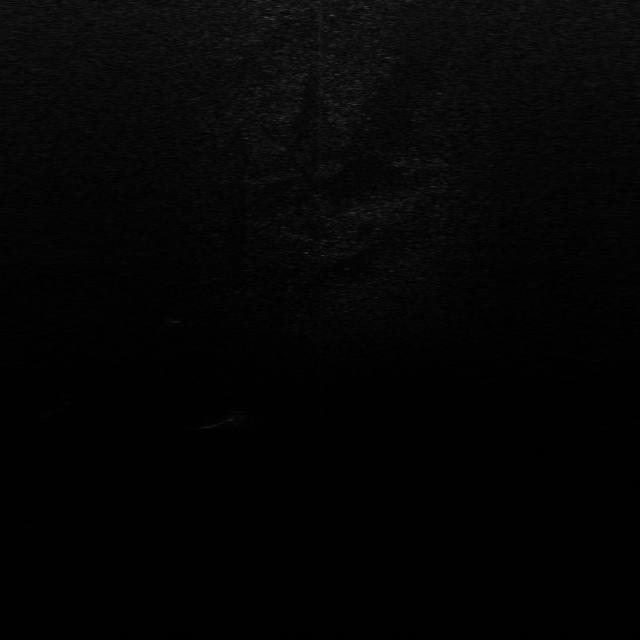ball: (223, 406, 252, 428)
circle cage: (164, 308, 187, 324)
tyre: (41, 389, 77, 419)
